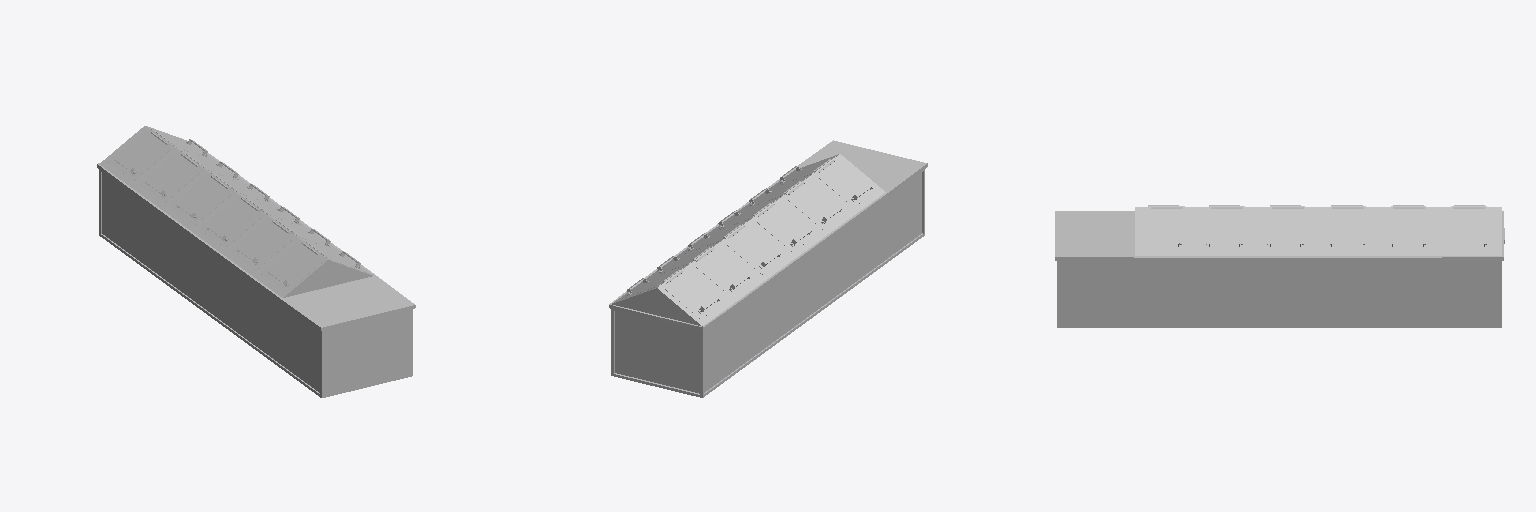
The model's file is SeedBin.obj.
The picture shows the model from 3 angles: view 1: azimuth 30°, elevation 25°; view 2: azimuth 150°, elevation 25°; view 3: azimuth 270°, elevation 25°; orthographic projection.
Parts seen in each view (by area): view 1: SeedBinShell, Hatch.011_Plane.022, Hatch.006_Plane.018, Hatch.008_Plane.010, Hatch.007_Plane.014, Hatch.010_Plane.002, Hatch.009_Plane.006; view 2: SeedBinShell, Hatch.008_Plane.010, Hatch.010_Plane.002, Hatch.007_Plane.014, Hatch.006_Plane.018, Hatch.011_Plane.022, Hatch.009_Plane.006; view 3: SeedBinShell, Hatch.004_Plane.026, Hatch.003_Plane.030, Hatch.002_Plane.034, Hatch.005_Plane.038, Hatch_Plane.046, Hatch.001_Plane.044.
Boxes of the visible parts, x1=… form: SeedBinShell: x1=97, y1=126, x2=415, y2=397; Hatch.011_Plane.022: x1=108, y1=129, x2=171, y2=180; Hatch.006_Plane.018: x1=139, y1=152, x2=202, y2=202; Hatch.008_Plane.010: x1=200, y1=197, x2=263, y2=247; Hatch.007_Plane.014: x1=169, y1=174, x2=232, y2=224; Hatch.010_Plane.002: x1=261, y1=241, x2=324, y2=292; Hatch.009_Plane.006: x1=230, y1=219, x2=293, y2=269; SeedBinShell: x1=609, y1=140, x2=927, y2=397; Hatch.008_Plane.010: x1=754, y1=201, x2=817, y2=251; Hatch.010_Plane.002: x1=816, y1=156, x2=878, y2=206; Hatch.007_Plane.014: x1=724, y1=223, x2=786, y2=274; Hatch.006_Plane.018: x1=693, y1=246, x2=756, y2=296; Hatch.011_Plane.022: x1=663, y1=268, x2=726, y2=318; Hatch.009_Plane.006: x1=785, y1=178, x2=848, y2=229; SeedBinShell: x1=1055, y1=206, x2=1504, y2=327; Hatch.004_Plane.026: x1=1443, y1=208, x2=1494, y2=250; Hatch.003_Plane.030: x1=1382, y1=208, x2=1433, y2=250; Hatch.002_Plane.034: x1=1321, y1=208, x2=1372, y2=250; Hatch.005_Plane.038: x1=1260, y1=208, x2=1311, y2=250; Hatch_Plane.046: x1=1137, y1=208, x2=1188, y2=250; Hatch.001_Plane.044: x1=1199, y1=208, x2=1249, y2=250.
Size of the model in its own units: 2.1 by 2.08 by 8.52.